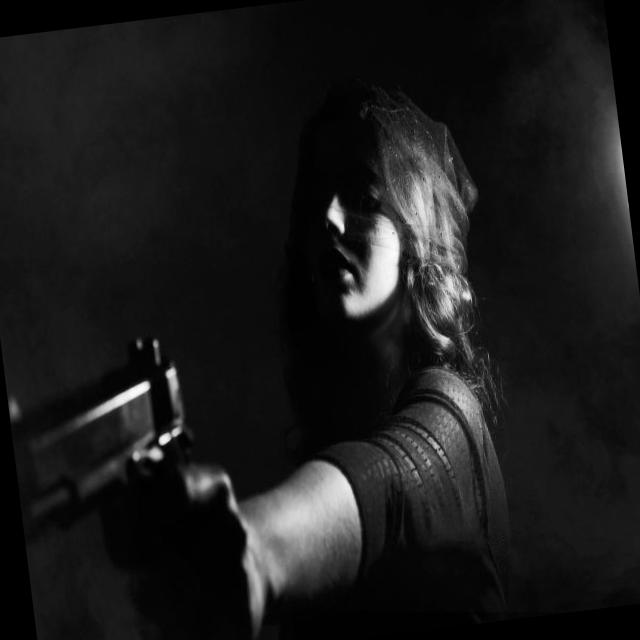Gun: (9, 338, 189, 538)
